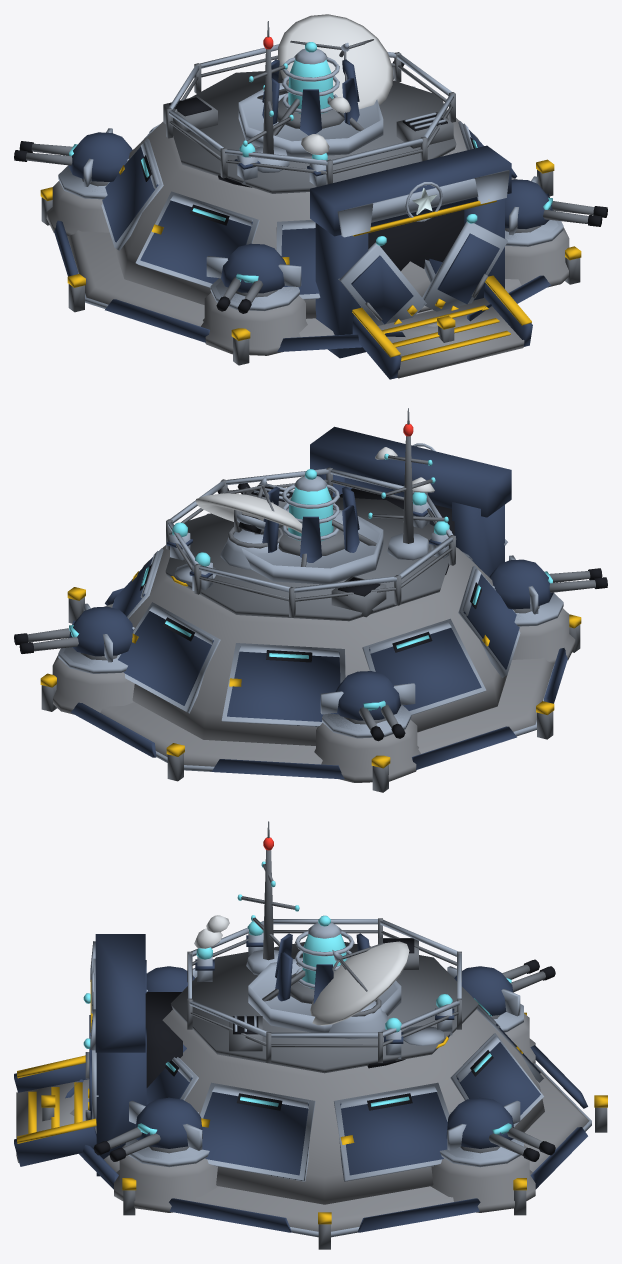
File: nexus_human.obj
The picture shows the model from 3 angles, top to bottom: view 1: azimuth 30°, elevation 25°; view 2: azimuth 150°, elevation 25°; view 3: azimuth 270°, elevation 25°; orthographic projection. The views are drawn at different scales.
Visible parts, largest first — view 1: Bunker, RoofDeck, GateLintel, GroundPad, RadarDish, ArmorPanel_4, Ramp, GateFrame_L, Turret_3_Base, CorePlatform, GateRecess, ArmorPanel_3 (+41 smaller); view 2: Bunker, RoofDeck, GroundPad, GateLintel, ArmorPanel_2, ArmorPanel_3, ArmorPanel_1, CorePlatform, Turret_1_Base, Turret_0_Base, GateFrame_L, ArmorPanel_4 (+31 smaller); view 3: Bunker, RoofDeck, GroundPad, ArmorPanel_0, ArmorPanel_7, GateLintel, RadarDish, GateFrame_R, Turret_2_Base, Turret_0_Base, CorePlatform, ArmorPanel_1 (+32 smaller).
Part boxes in pixels (x1=…): Bunker: x1=114, y1=109, x2=479, y2=318; RoofDeck: x1=173, y1=70, x2=456, y2=193; GateLintel: x1=310, y1=145, x2=511, y2=236; GroundPad: x1=67, y1=177, x2=521, y2=337; RadarDish: x1=277, y1=14, x2=392, y2=109; ArmorPanel_4: x1=140, y1=200, x2=252, y2=283; Ramp: x1=378, y1=298, x2=524, y2=378; GateFrame_L: x1=315, y1=223, x2=368, y2=358; Turret_3_Base: x1=201, y1=292, x2=307, y2=355; CorePlatform: x1=238, y1=83, x2=383, y2=156; GateRecess: x1=368, y1=210, x2=464, y2=271; ArmorPanel_3: x1=102, y1=147, x2=158, y2=242; Bunker: x1=129, y1=545, x2=507, y2=745; RoofDeck: x1=165, y1=497, x2=456, y2=621; GroundPad: x1=100, y1=604, x2=554, y2=766; GateLintel: x1=310, y1=426, x2=511, y2=517; ArmorPanel_2: x1=227, y1=651, x2=340, y2=721; ArmorPanel_3: x1=369, y1=628, x2=481, y2=710; ArmorPanel_1: x1=118, y1=611, x2=213, y2=705; CorePlatform: x1=241, y1=508, x2=383, y2=584; Turret_1_Base: x1=314, y1=719, x2=420, y2=782; Turret_0_Base: x1=52, y1=655, x2=134, y2=714; GateFrame_L: x1=452, y1=502, x2=504, y2=576; ArmorPanel_4: x1=463, y1=574, x2=519, y2=669; Bunker: x1=162, y1=1009, x2=544, y2=1204; RoofDeck: x1=171, y1=942, x2=478, y2=1073; GroundPad: x1=70, y1=1063, x2=589, y2=1231; ArmorPanel_0: x1=340, y1=1092, x2=447, y2=1175; ArmorPanel_7: x1=202, y1=1092, x2=308, y2=1175; GateLintel: x1=95, y1=934, x2=145, y2=1052; RadarDish: x1=310, y1=941, x2=409, y2=1025; GateFrame_R: x1=96, y1=1028, x2=146, y2=1176; Turret_2_Base: x1=114, y1=1145, x2=218, y2=1212; Turret_0_Base: x1=431, y1=1145, x2=535, y2=1212; CorePlatform: x1=248, y1=957, x2=401, y2=1032; ArmorPanel_1: x1=457, y1=1042, x2=540, y2=1115.
Size of the model in its own units: 11.11 by 6.03 by 11.65.
